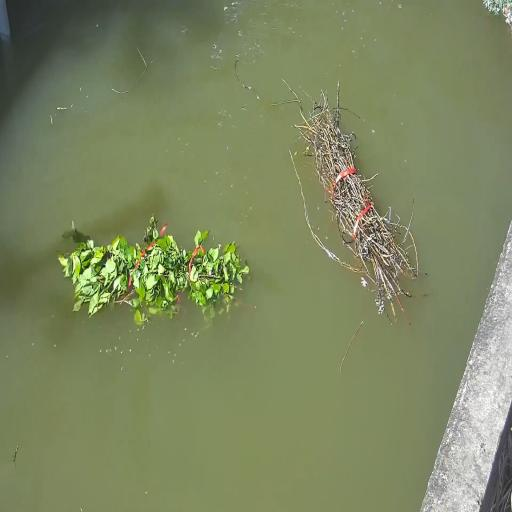twig: (291, 82, 417, 316), (58, 216, 249, 323), (483, 0, 512, 15)
